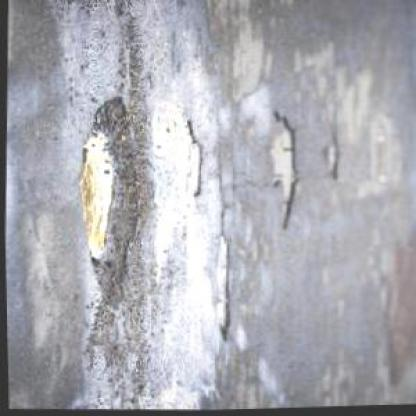pothole: (73, 94, 147, 305), (265, 112, 299, 232), (215, 236, 236, 341), (182, 121, 204, 197), (325, 133, 341, 183)
